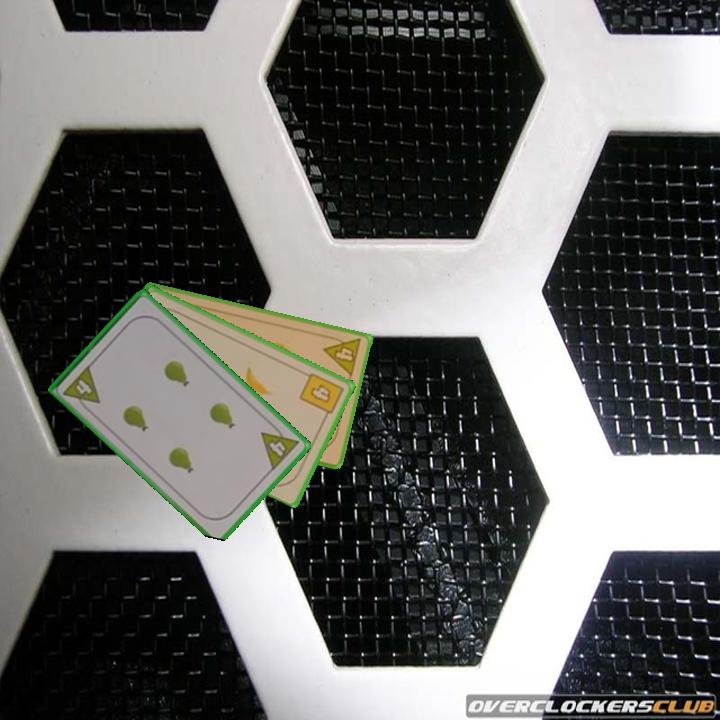4b: (296, 369, 346, 422)
4p: (257, 419, 302, 473), (60, 362, 103, 415), (320, 331, 364, 379)
